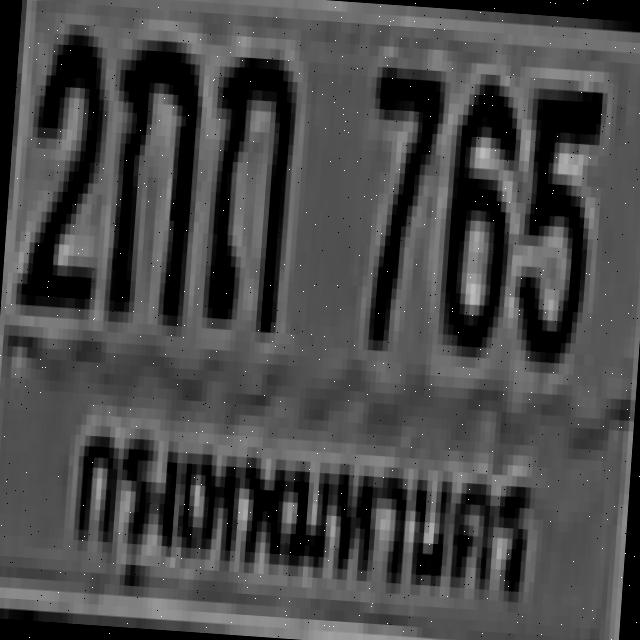10GorGai: (101, 27, 200, 316)
2: (15, 16, 104, 304)
31ThorThung: (197, 45, 295, 322)
5: (510, 82, 598, 359)
6: (432, 72, 514, 348)
7: (353, 55, 442, 343)
Bangkok: (47, 376, 547, 640)
